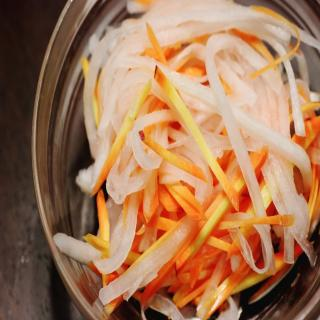Carrot: (175, 143, 269, 278)
